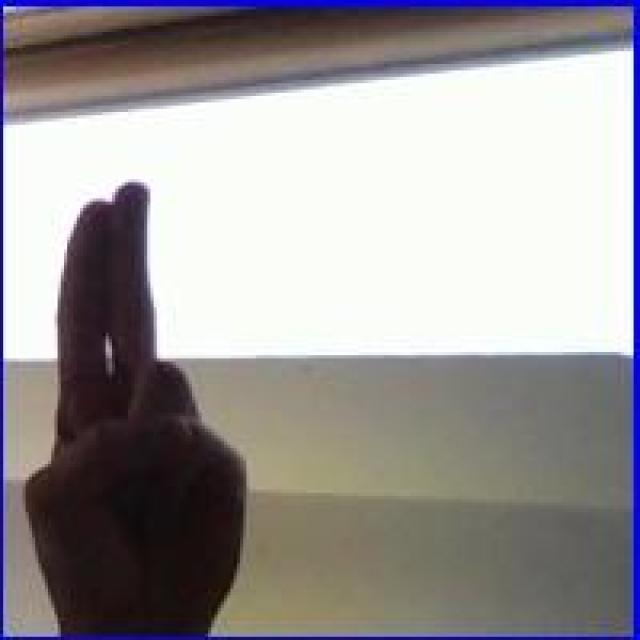U: (21, 170, 251, 634)
